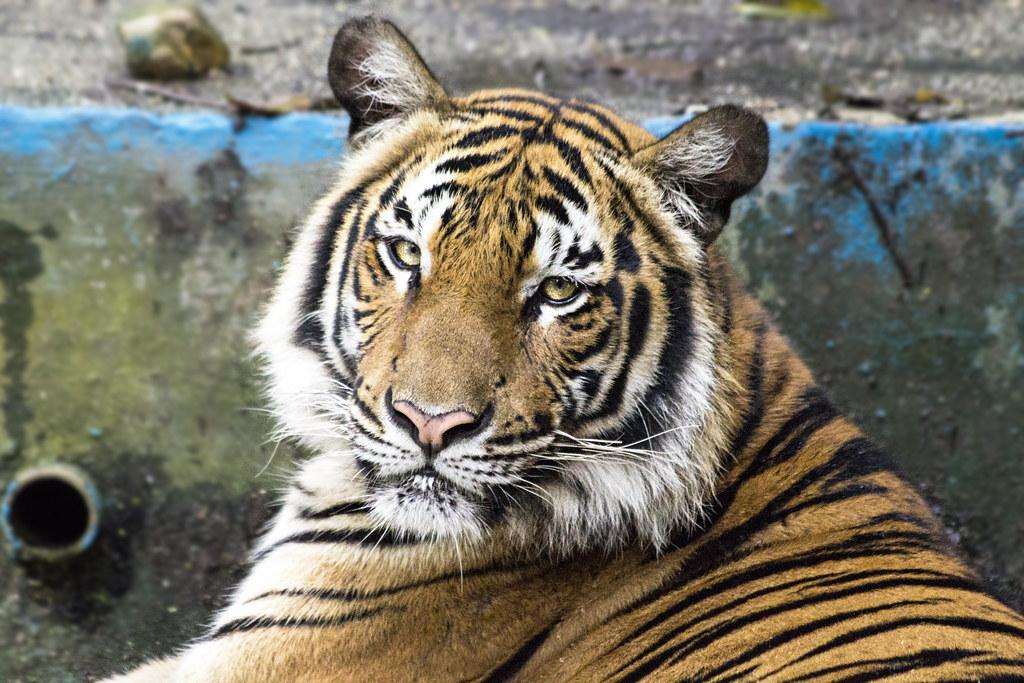tiger: (97, 13, 1022, 682)
